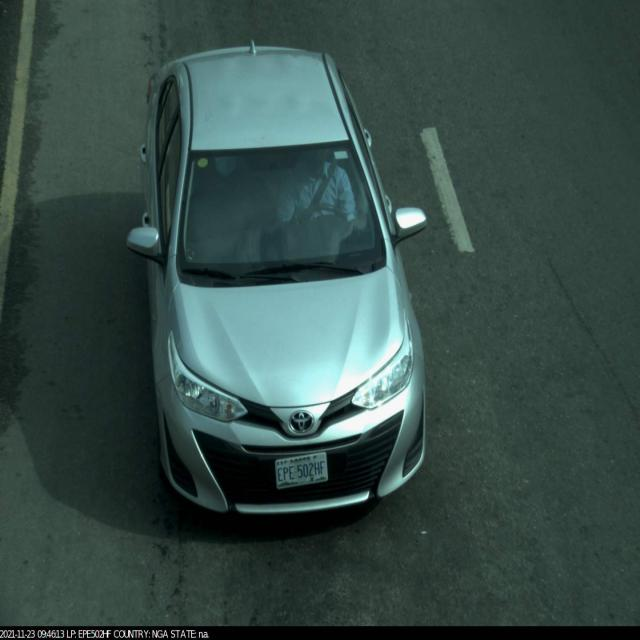windshield: (180, 132, 394, 294)
